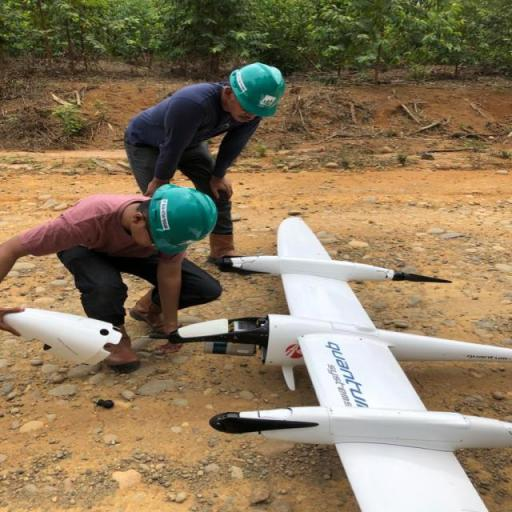uav: (215, 212, 512, 512)
